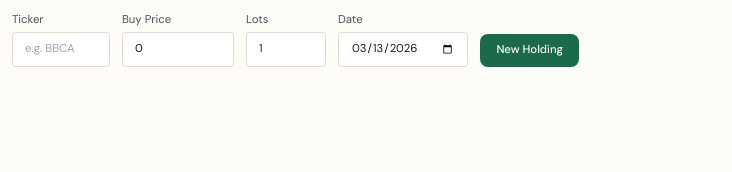
Test: BuyHoldingForm › shows error when ticker is empty
Replace the text in the number field labelled "Buy Price" with "8500" at (178, 49), box x1=122 y1=32 x2=234 y2=67
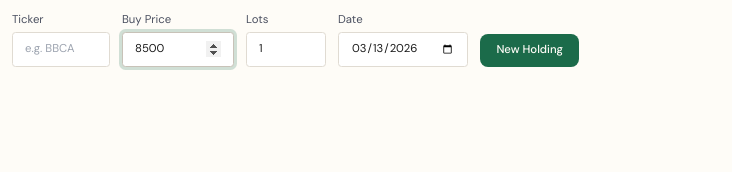
Replace the text in the number field labelled "Lots" with "10" at (286, 49), box x1=246 y1=32 x2=326 y2=67
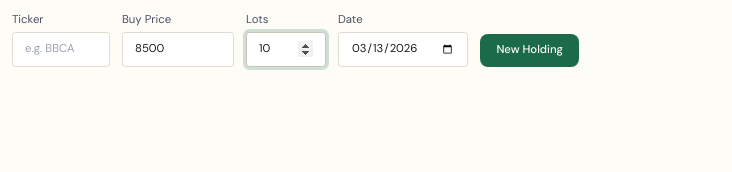
Click the button "New Holding" at (530, 50), box x1=480 y1=34 x2=579 y2=67
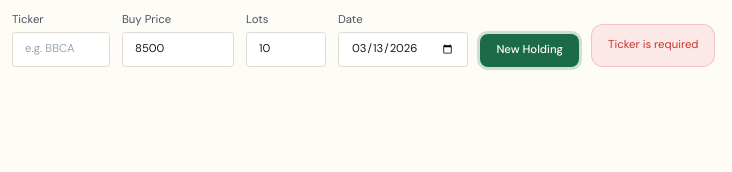
expect the message reads "Ticker is required": met, box x1=608 y1=37 x2=698 y2=52
